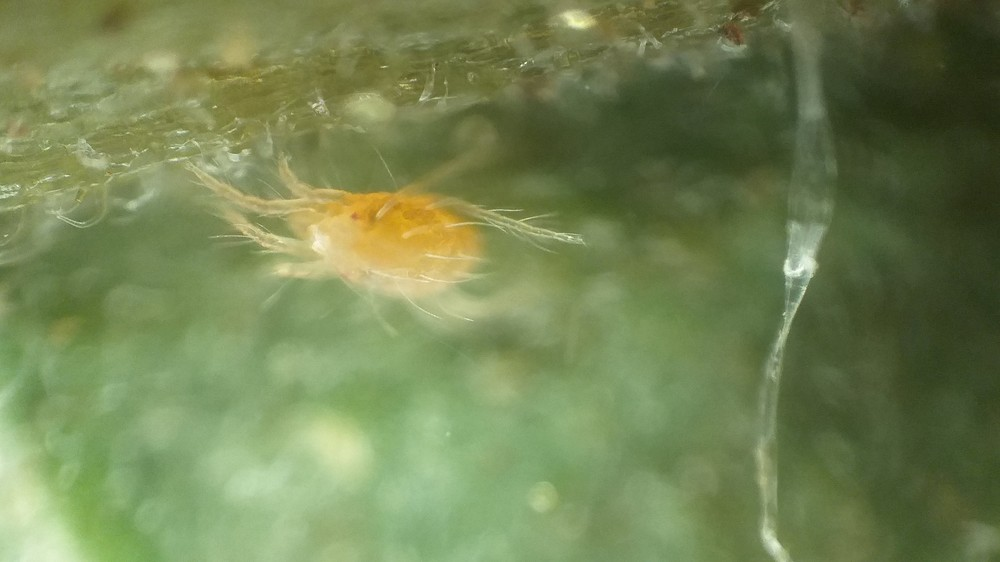Aracnido Rojo: (183, 123, 621, 346)
